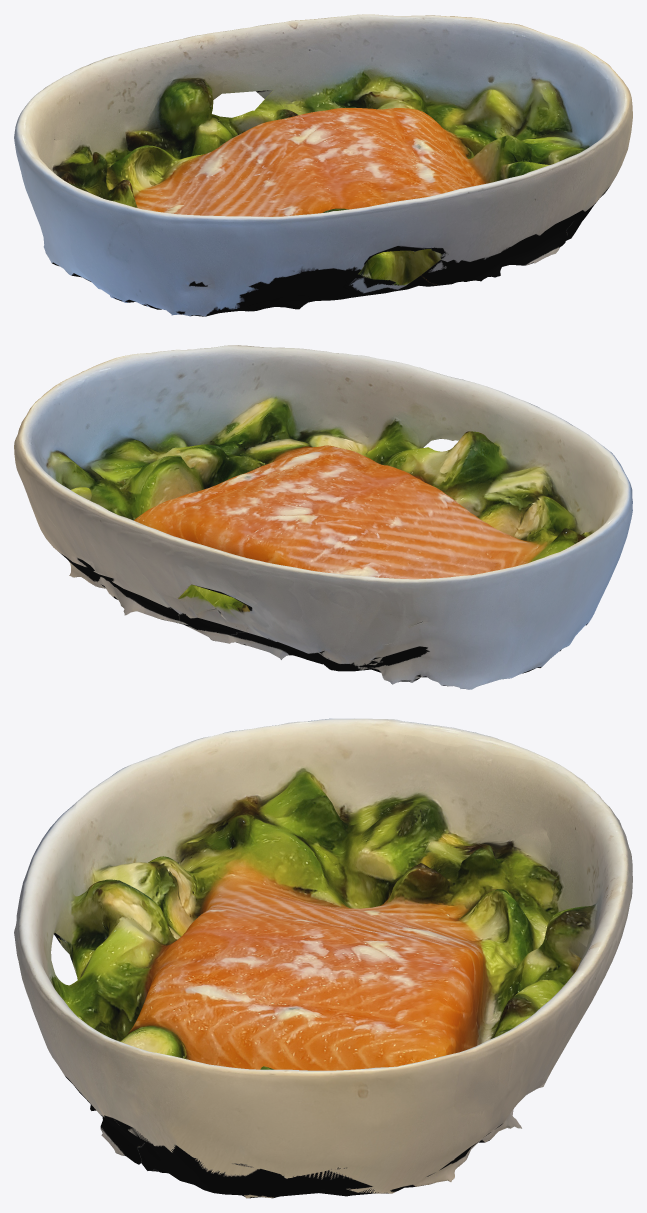
The model's file is salmon_and_brussel_sprouts.glb.
The picture shows the model from 3 angles, top to bottom: view 1: azimuth 30°, elevation 25°; view 2: azimuth 150°, elevation 25°; view 3: azimuth 270°, elevation 25°; orthographic projection. The views are drawn at different scales.
Parts seen in each view (by area): view 1: Model; view 2: Model; view 3: Model.
Part boxes in pixels (x1=…): Model: x1=14, y1=14, x2=632, y2=316; Model: x1=14, y1=345, x2=632, y2=689; Model: x1=14, y1=718, x2=632, y2=1198.
Bounding box in the file's own units: 0.9882 × 0.2156 × 0.7333.
Materials: 3 (3 with a texture image).
